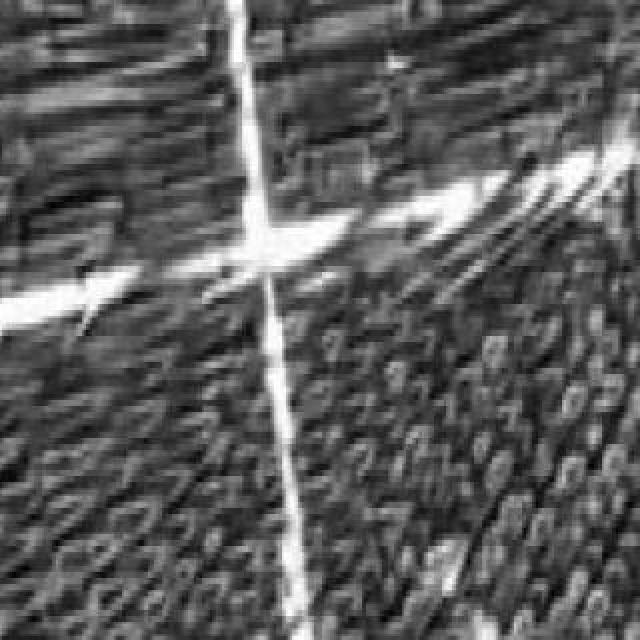Physical-damage: (247, 0, 640, 640), (0, 0, 286, 639)
